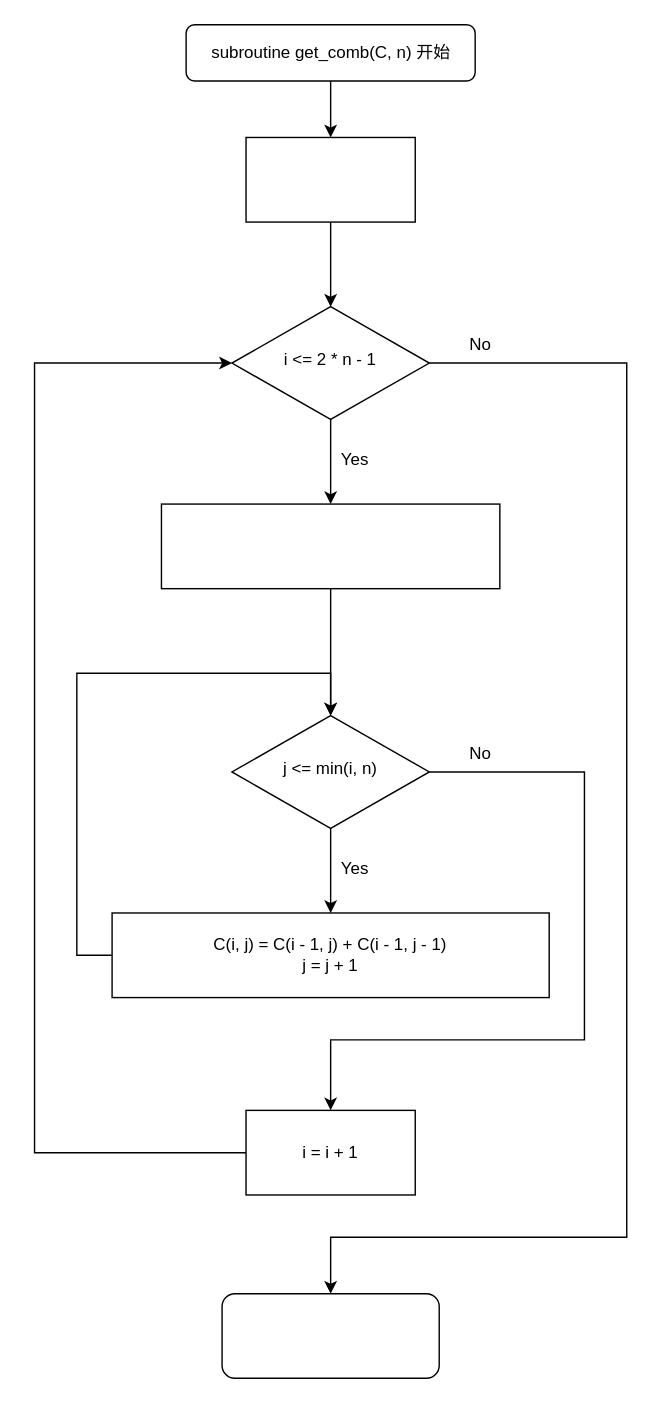
Some shapes in this 663 by 1403 pixel diagram are drawn without their labels. The shapes that lost their labels are listed below. From the top down, each one's centre as x and y in pixels, then its label:
At (x=330, y=179): "C(0, 0) = 1 i = 1".
At (x=330, y=546): "C(i, 0) = 1 j = 1".
At (x=330, y=1335): "subroutine get_C 结束".
